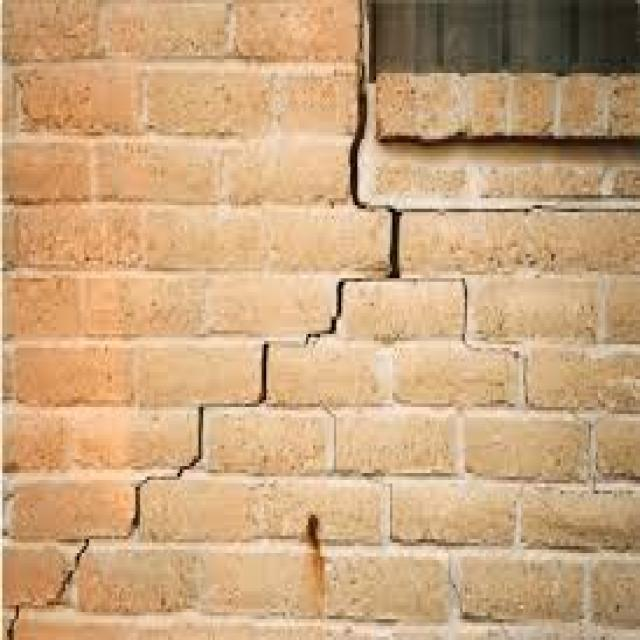Crack: (5, 63, 399, 636), (400, 261, 638, 497), (397, 198, 638, 212)
